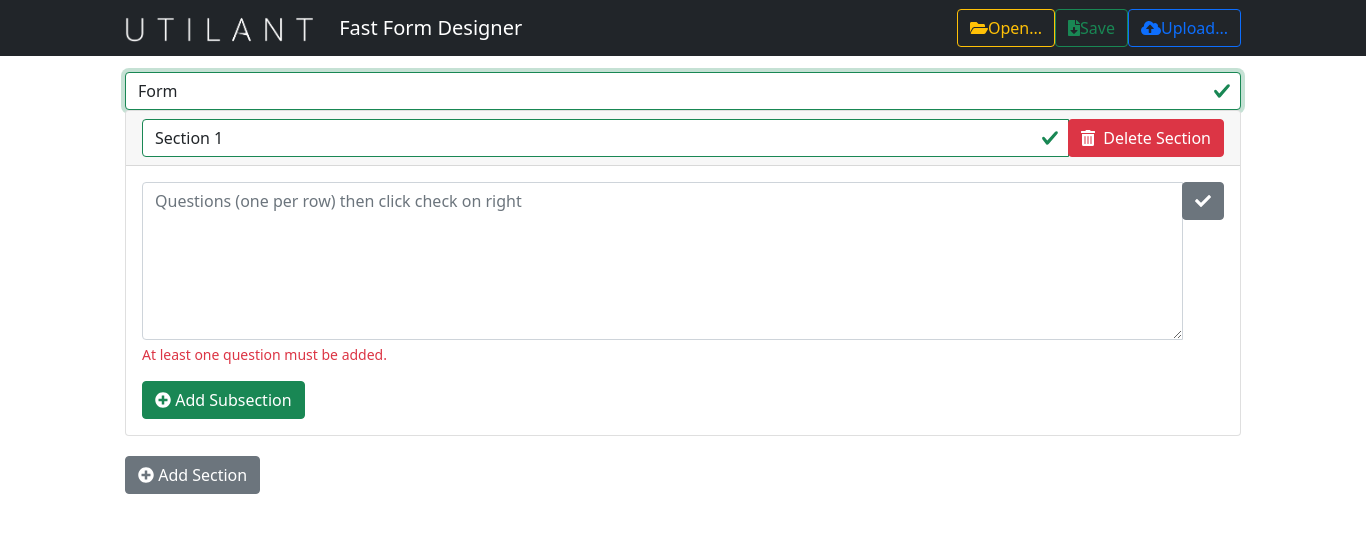
Test case: E2E testing of Fast Form Designer › Clears form name and error appears
Clear the field with id "name" at x=683, y=91, box [125,72,1241,110]
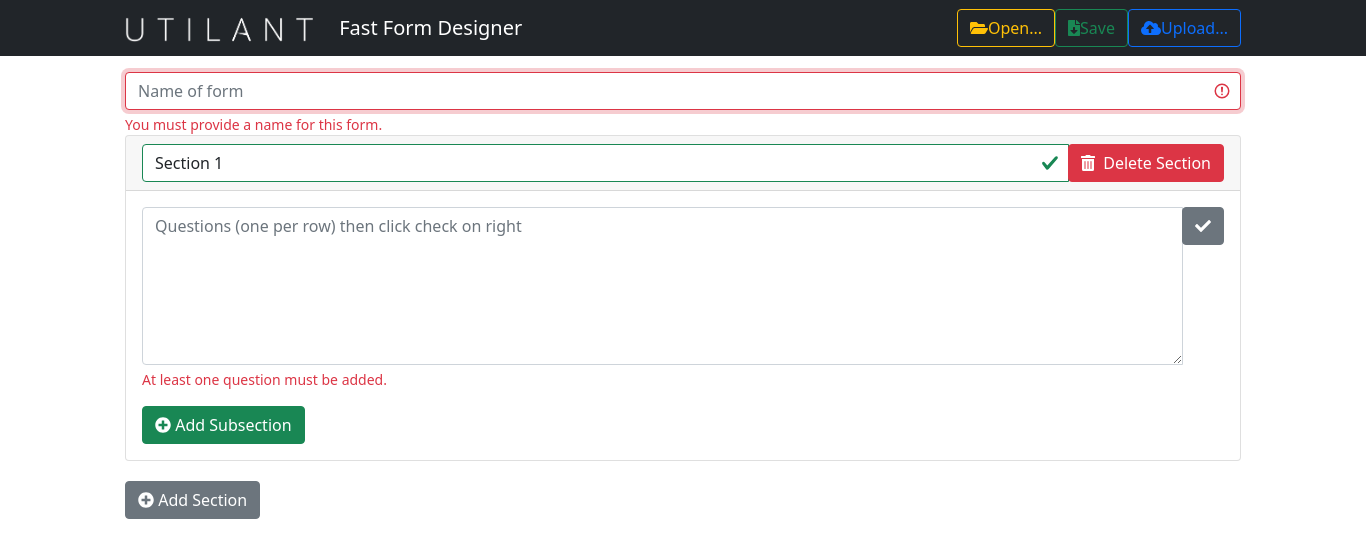
Check: the text "You must provide a name for this form." is shown, box [125,115,382,134]
